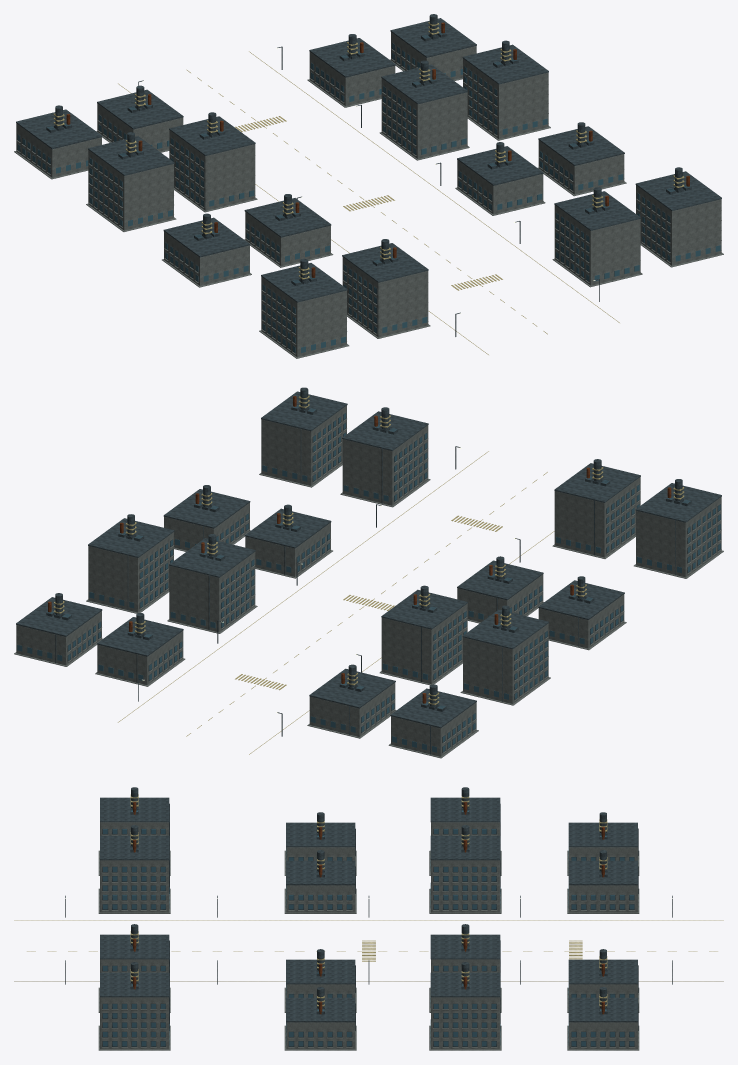
The model's file is map_2_v1.glb.
3 views of the same model, one above another, from view 1: azimuth 30°, elevation 25°; view 2: azimuth 150°, elevation 25°; view 3: azimuth 270°, elevation 25° (orthographic). The views are drawn at different scales.
Parts seen in each view (by area): view 1: aged_concrete, galvanized_steel, smoked_glass, worn_road_paint, oxidized_metal; view 2: aged_concrete, galvanized_steel, smoked_glass, worn_road_paint, oxidized_metal; view 3: galvanized_steel, aged_concrete, smoked_glass, worn_road_paint, oxidized_metal.
Boxes of the visible parts, x1,y1,x2,y2 form: aged_concrete: [14, 32, 723, 358]; galvanized_steel: [16, 14, 721, 353]; smoked_glass: [17, 31, 720, 352]; worn_road_paint: [53, 22, 684, 354]; oxidized_metal: [66, 22, 689, 277]; aged_concrete: [14, 405, 723, 758]; galvanized_steel: [16, 387, 721, 754]; smoked_glass: [17, 405, 720, 752]; worn_road_paint: [53, 395, 684, 754]; oxidized_metal: [48, 396, 671, 703]; galvanized_steel: [65, 787, 672, 1046]; aged_concrete: [98, 822, 639, 1050]; smoked_glass: [103, 808, 634, 1046]; worn_road_paint: [14, 794, 723, 1006]; oxidized_metal: [133, 802, 604, 1014].
Size of what is drawn, in the model's own units: 137 by 24 by 206.
6 materials, 4 textured.
